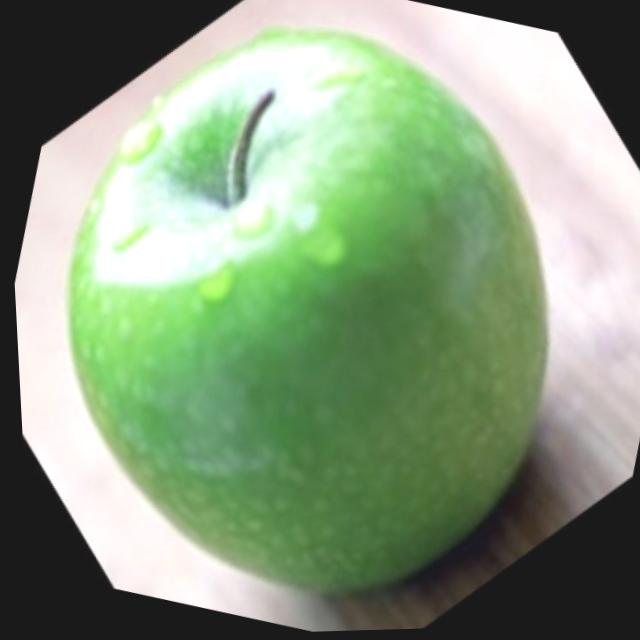Apple: (0, 0, 625, 640)
